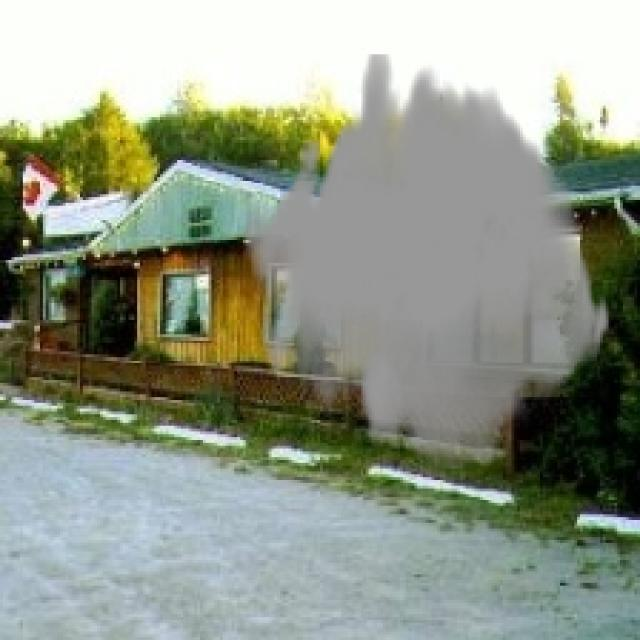smoke: (243, 54, 611, 469)
